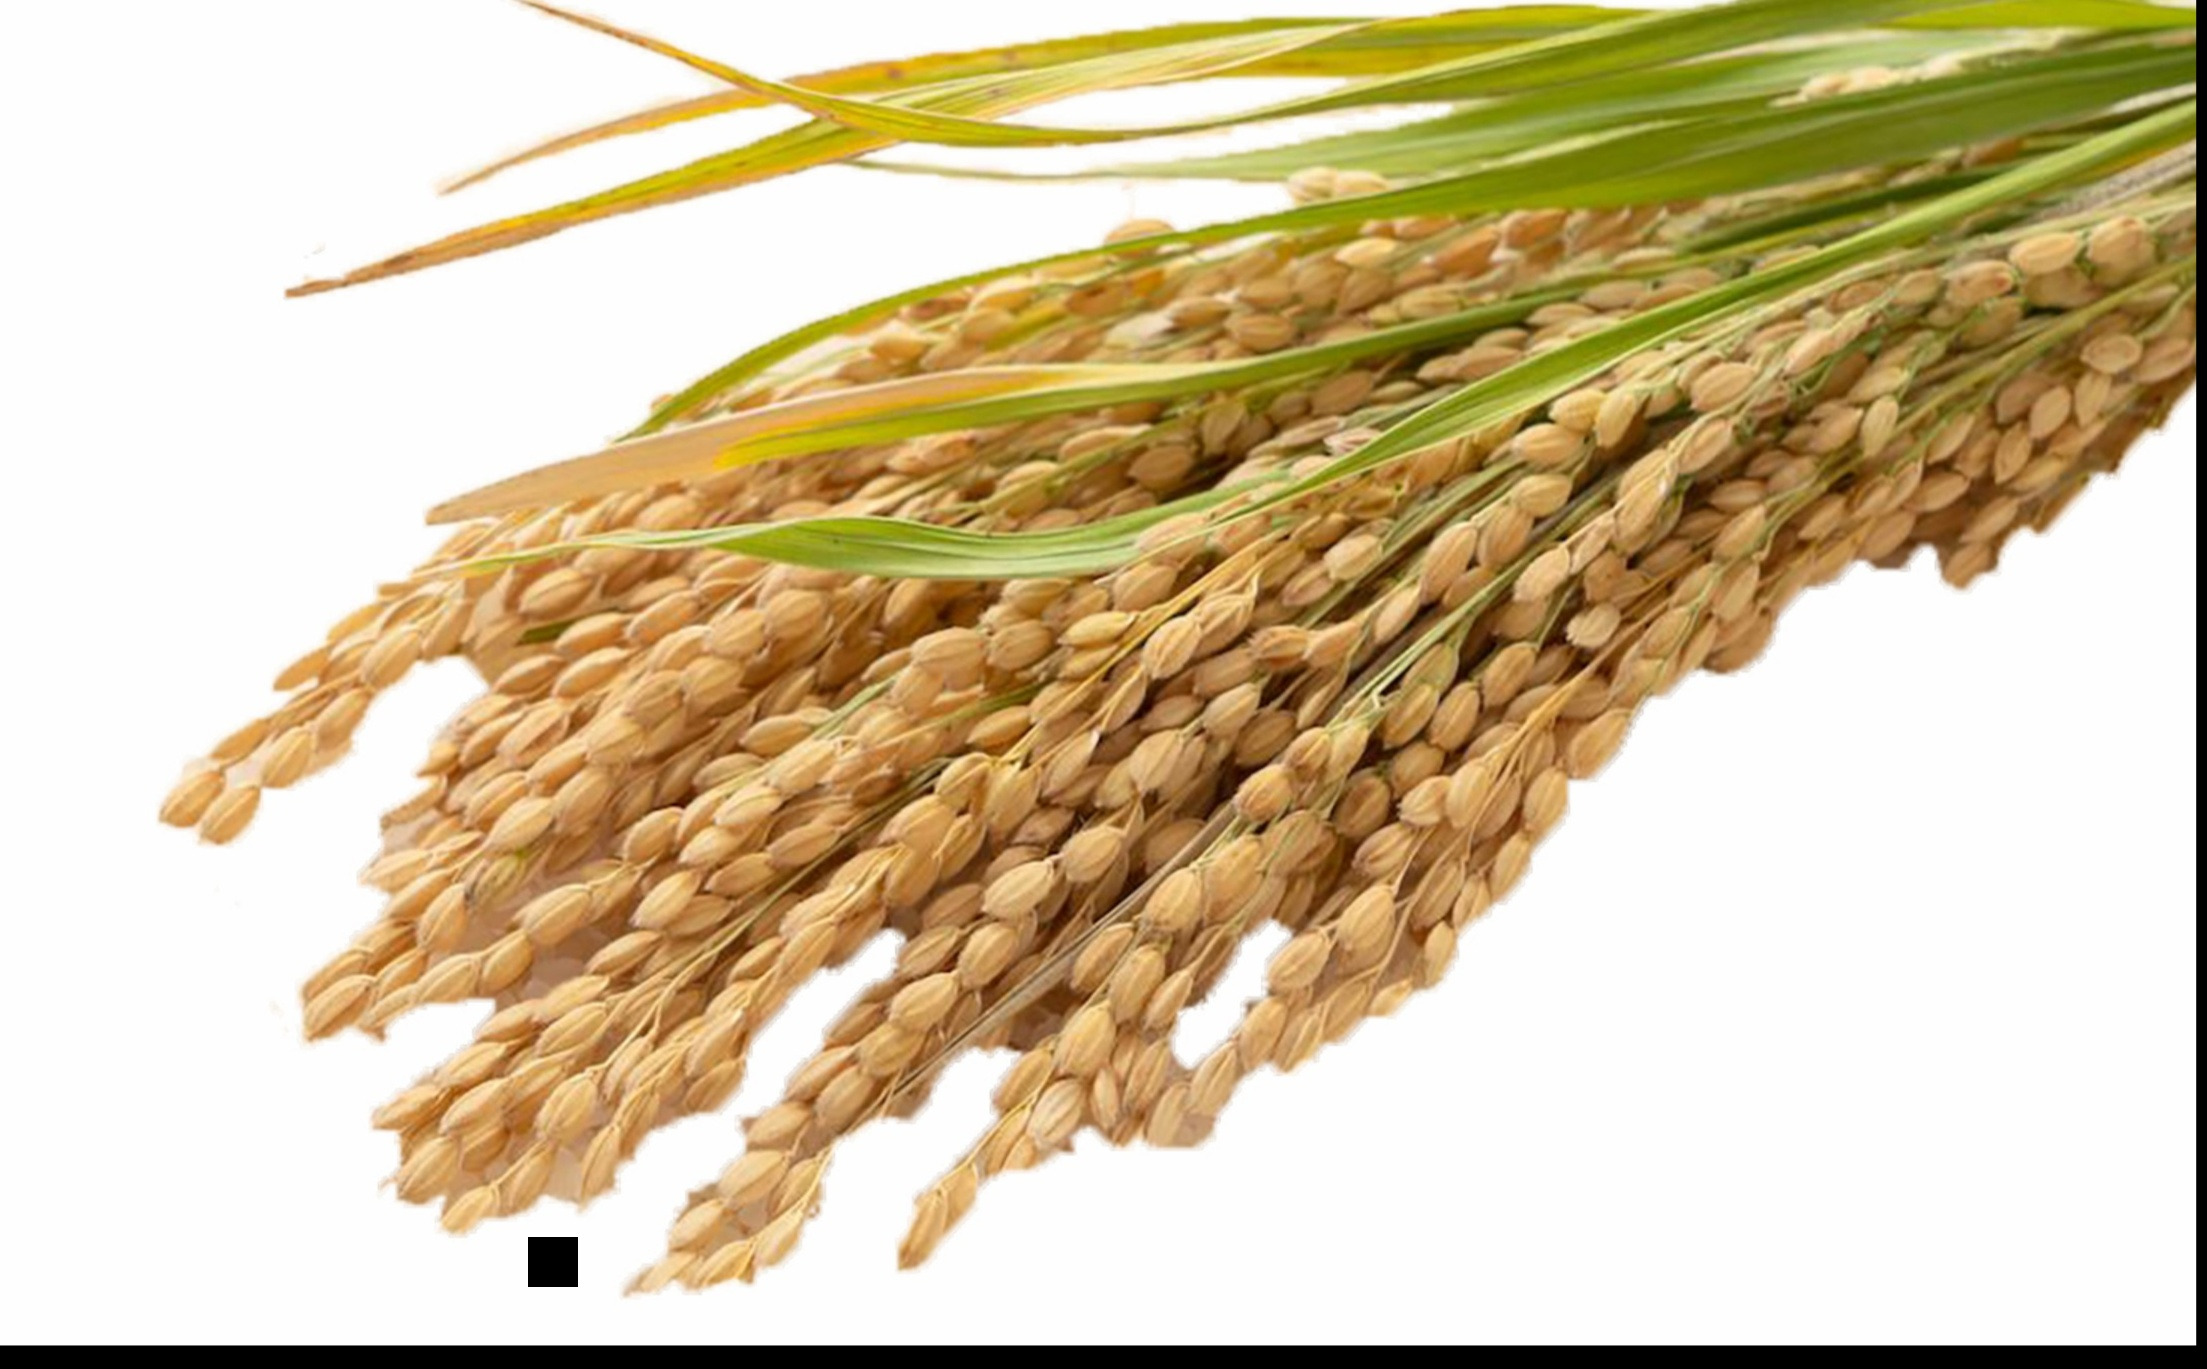rice: (104, 58, 2196, 1323)
